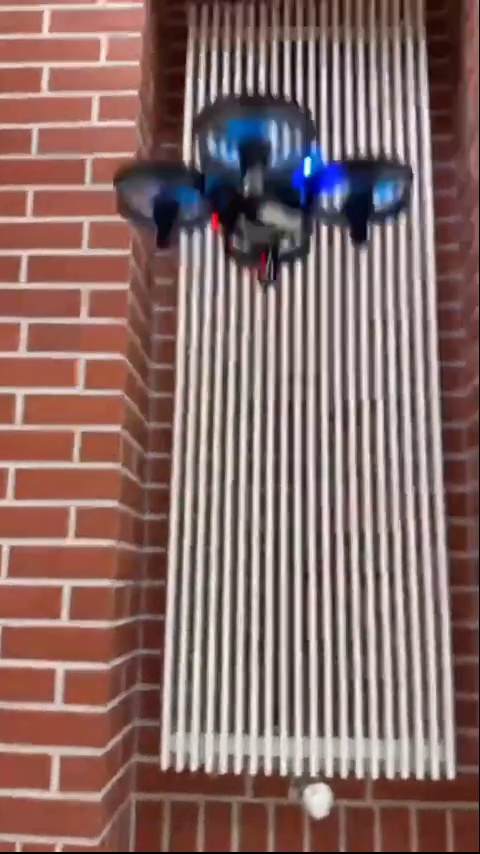drone: (109, 99, 407, 278)
